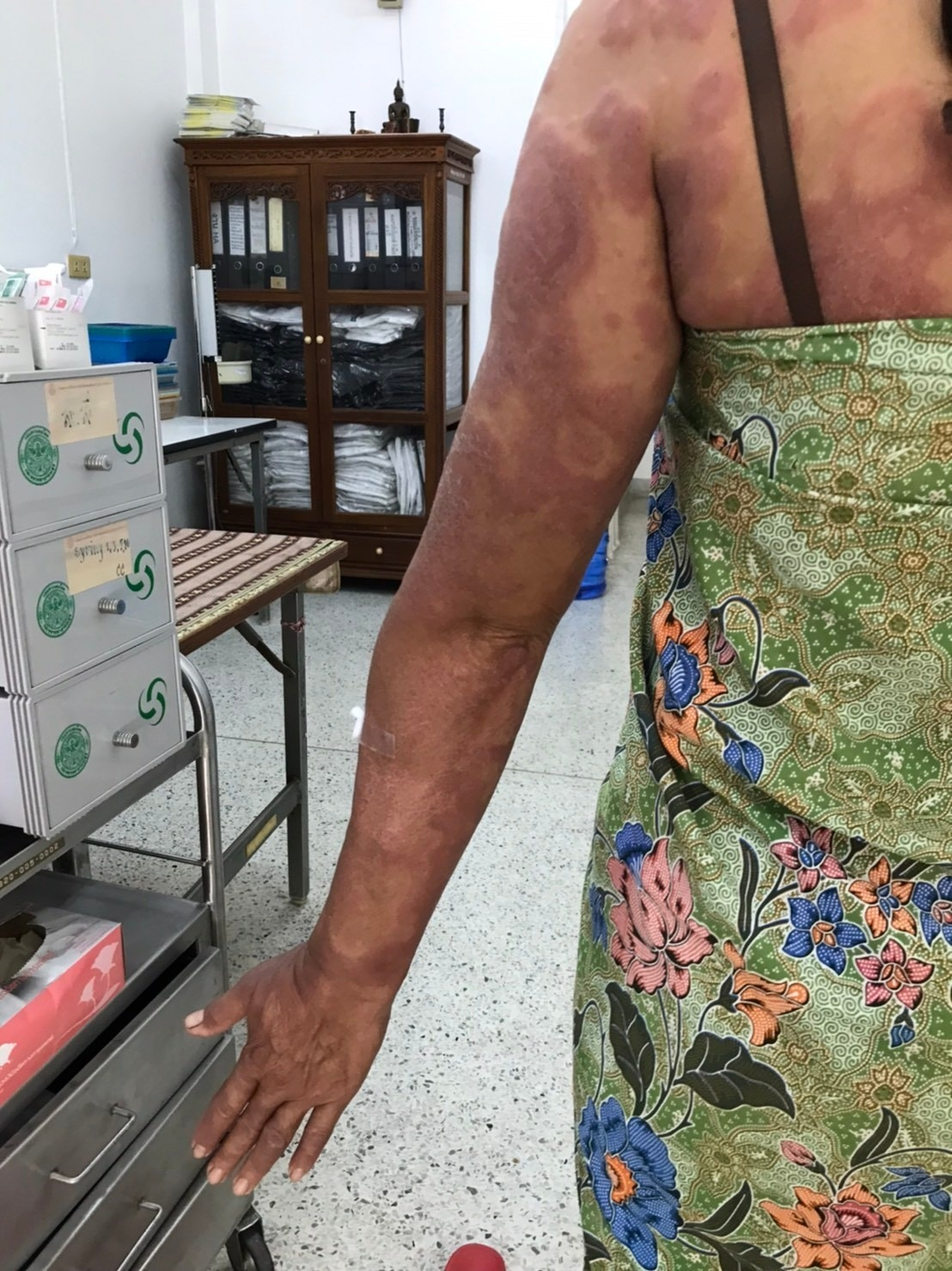Leprosy: (298, 783, 483, 977), (503, 118, 597, 459), (821, 73, 939, 230), (805, 201, 951, 316), (522, 378, 622, 513), (578, 89, 661, 219), (666, 163, 736, 304), (588, 2, 724, 56), (679, 68, 746, 150)
